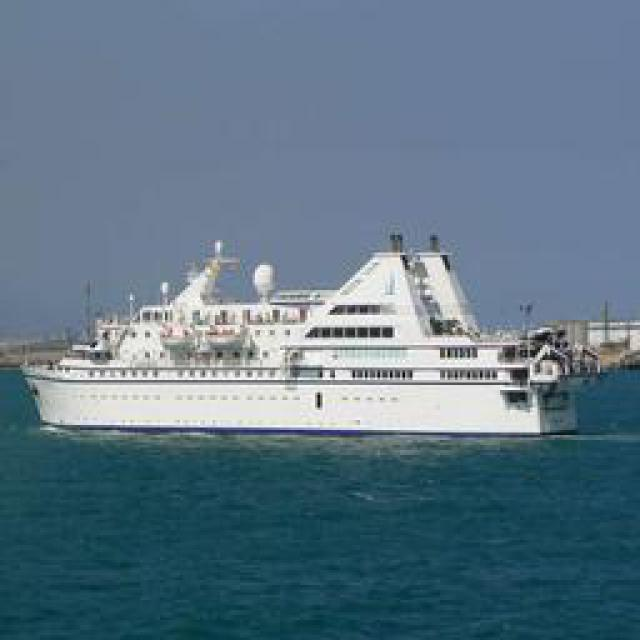Ship: (23, 231, 598, 444)
